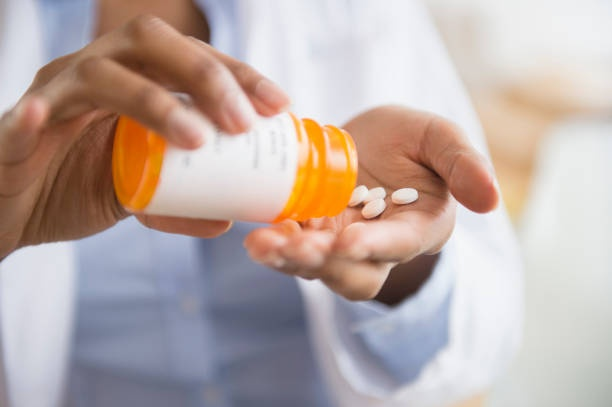pills: (388, 184, 421, 210), (362, 198, 386, 221)
